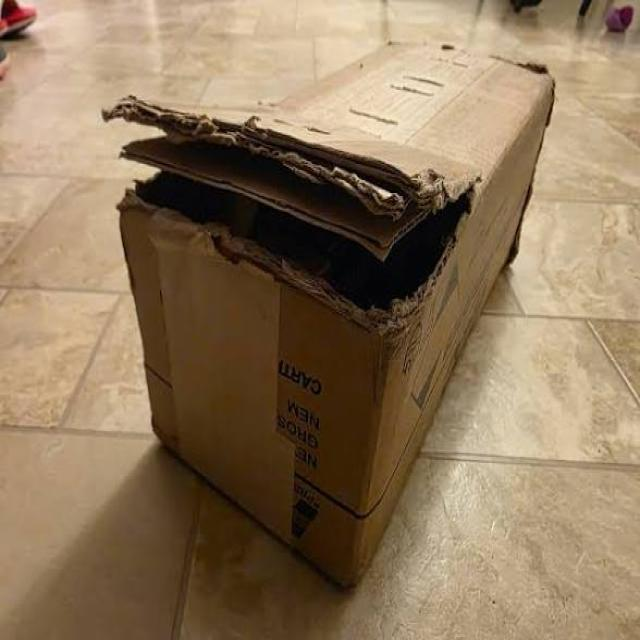package_damage: (106, 60, 489, 342)
